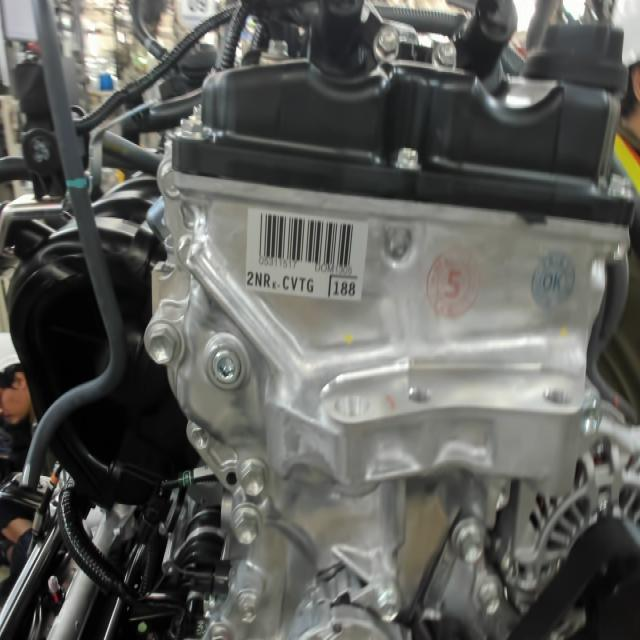Engine Assy-188: (326, 272, 364, 305)
Hose Canister-HJ: (63, 176, 94, 195)
